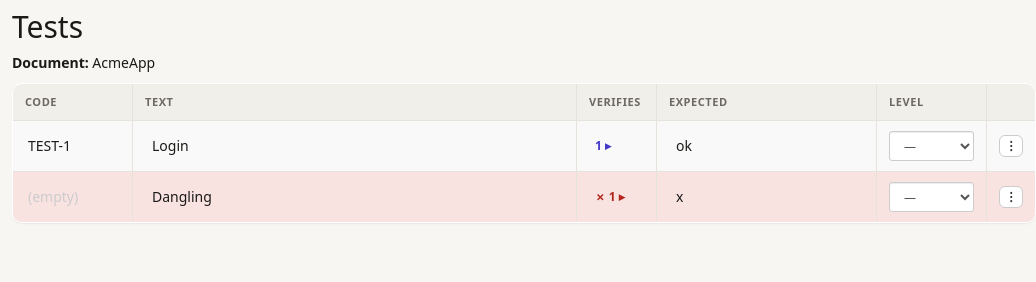
Scenario: VTPTable › shows verifies as an expandable toggle that reveals the verified requirement label
Check: the text "Login" is shown, box x1=152 y1=136 x2=189 y2=155
Check: the text "FUNC-1" is not shown
Click the button named "Show requirements verified by t_001" at [603, 146], box x1=589 y1=135 x2=617 y2=157
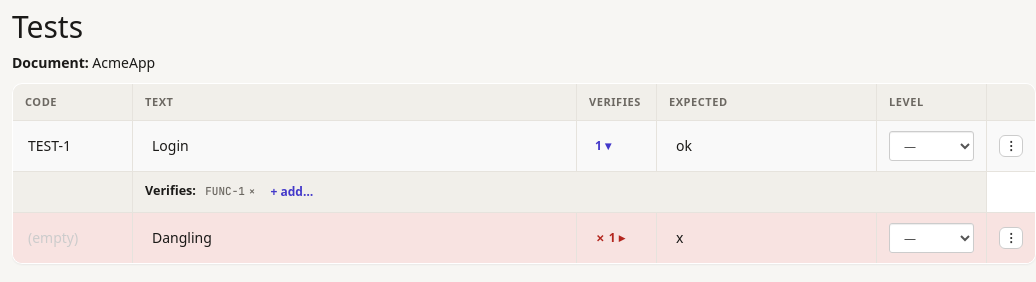
Check: the text "FUNC-1 ×" is shown, box x1=199 y1=184 x2=261 y2=199
